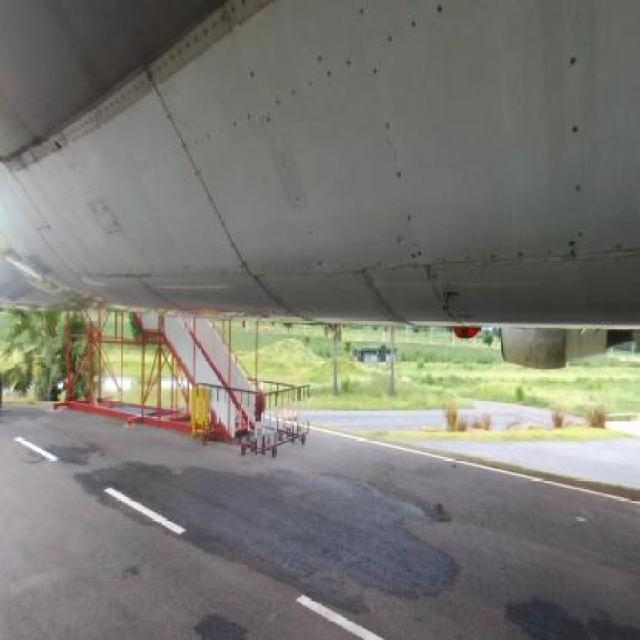Missing-Rivet: (365, 88, 433, 264), (482, 232, 630, 280), (564, 18, 594, 242), (302, 38, 402, 102), (191, 96, 294, 150)
